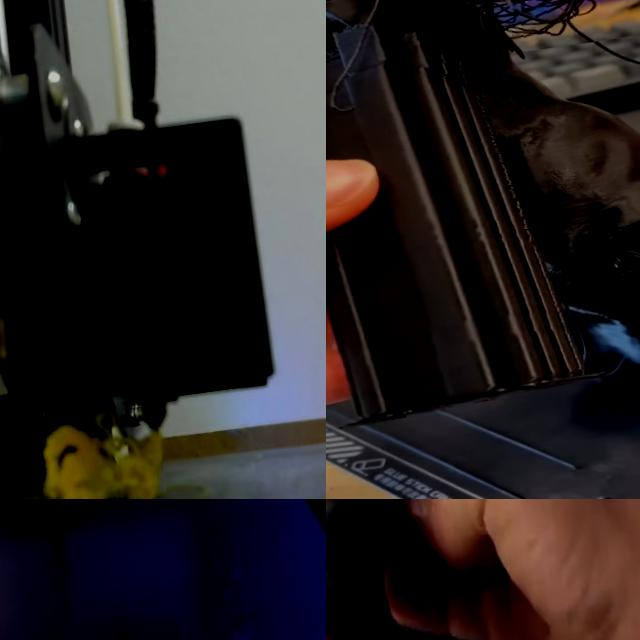spaghetti: (419, 0, 640, 65), (43, 410, 163, 499)
